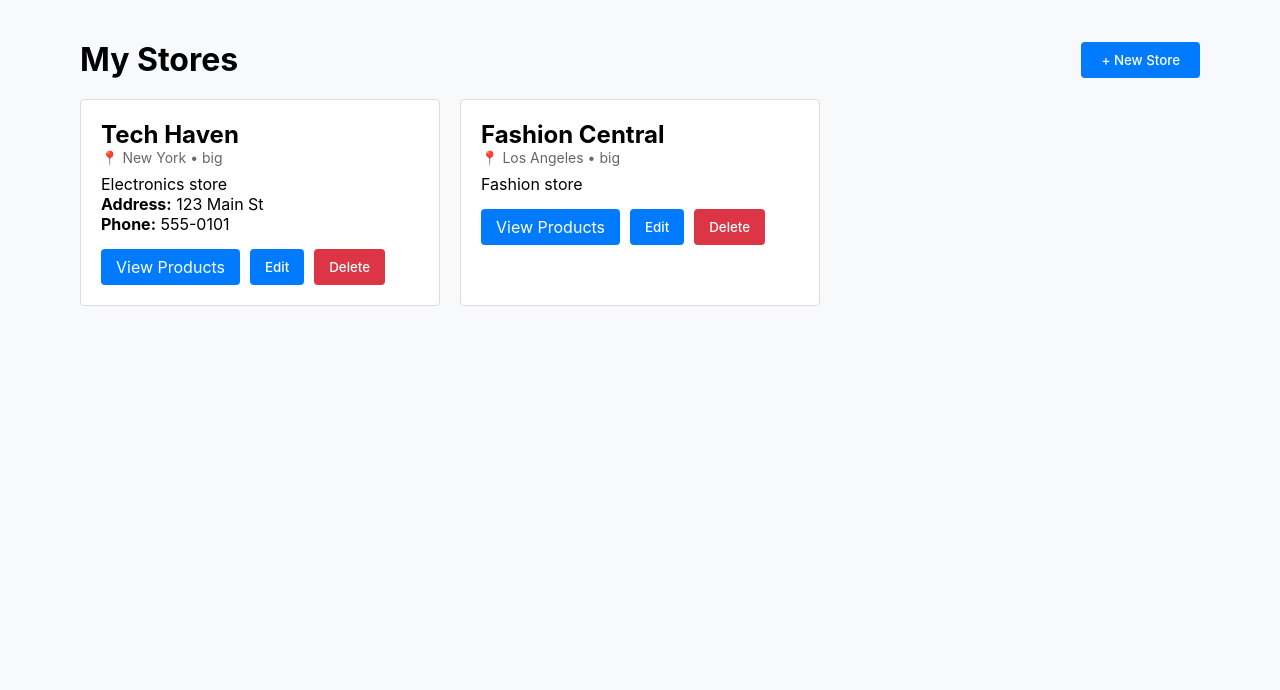
Scenario: Stores › displays create store form when New Store button clicked
Expected: the heading "Tech Haven" is shown, [101, 120, 239, 149]
Click the button "+ New Store" at (1141, 60), box [1082, 42, 1200, 78]
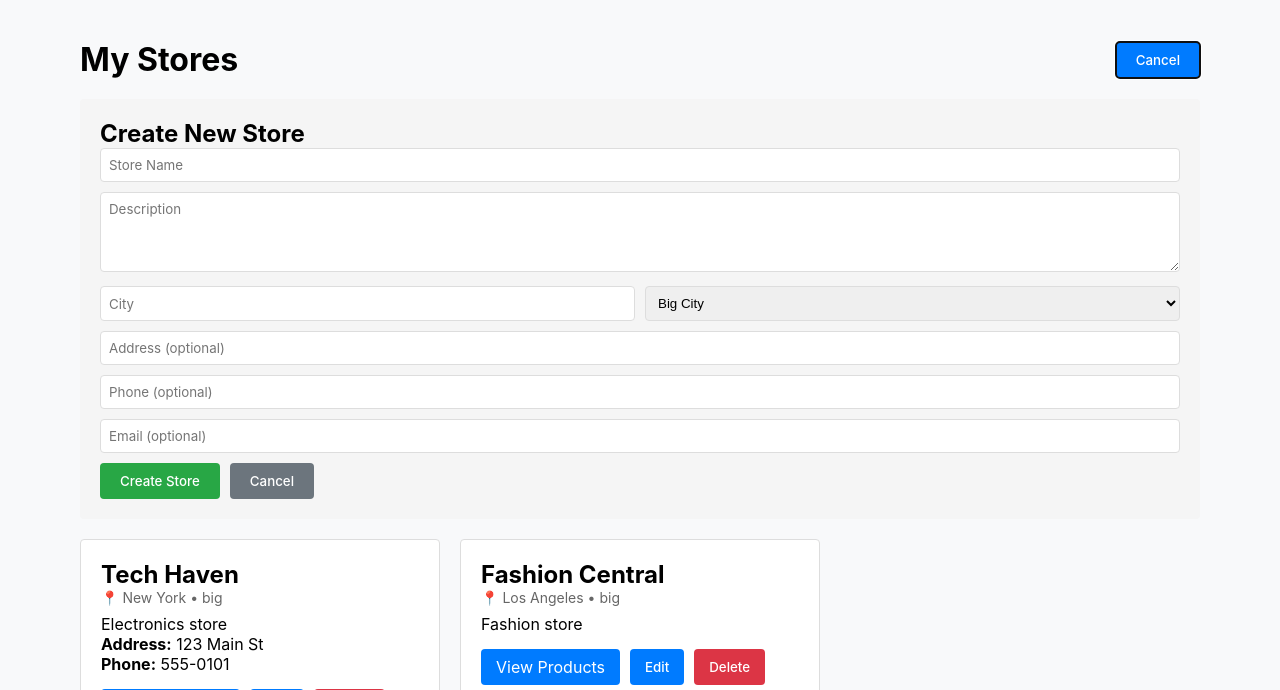
Expected: the heading "Create New Store" is shown, [100, 119, 305, 148]
Expected: the field with placeholder "Store Name" is shown, [100, 148, 1180, 182]
